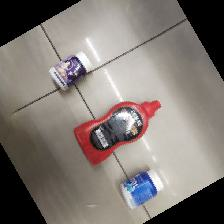Chinsu: (72, 99, 162, 168)
Xylitol_BTS: (48, 50, 92, 94)
Xylitol_blue: (116, 166, 170, 210)
